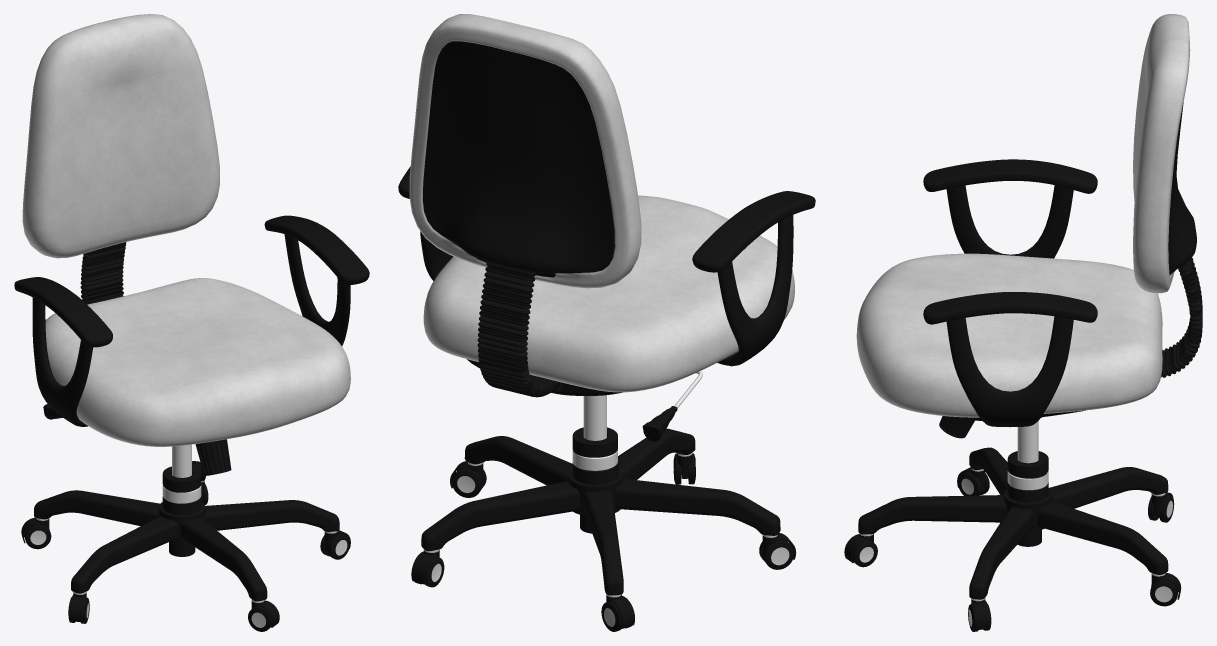
File: OfficeChair-transformed.glb
3 renders of one model, left to right at view 1: azimuth 30°, elevation 25°; view 2: azimuth 150°, elevation 25°; view 3: azimuth 270°, elevation 25°, orthographic. The views are drawn at different scales.
Parts seen in each view (by area): view 1: Office Chair_REX; view 2: Office Chair_REX; view 3: Office Chair_REX.
Boxes of the visible parts, <box> form: Office Chair_REX: <box>14,14,369,631</box>; Office Chair_REX: <box>398,14,815,631</box>; Office Chair_REX: <box>844,14,1202,631</box>.
Size of the model in its own units: 0.6243 by 1.04 by 0.6383.
4 materials, 1 textured.
